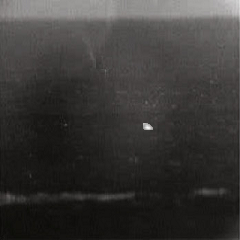Target: (140, 121, 155, 130)
